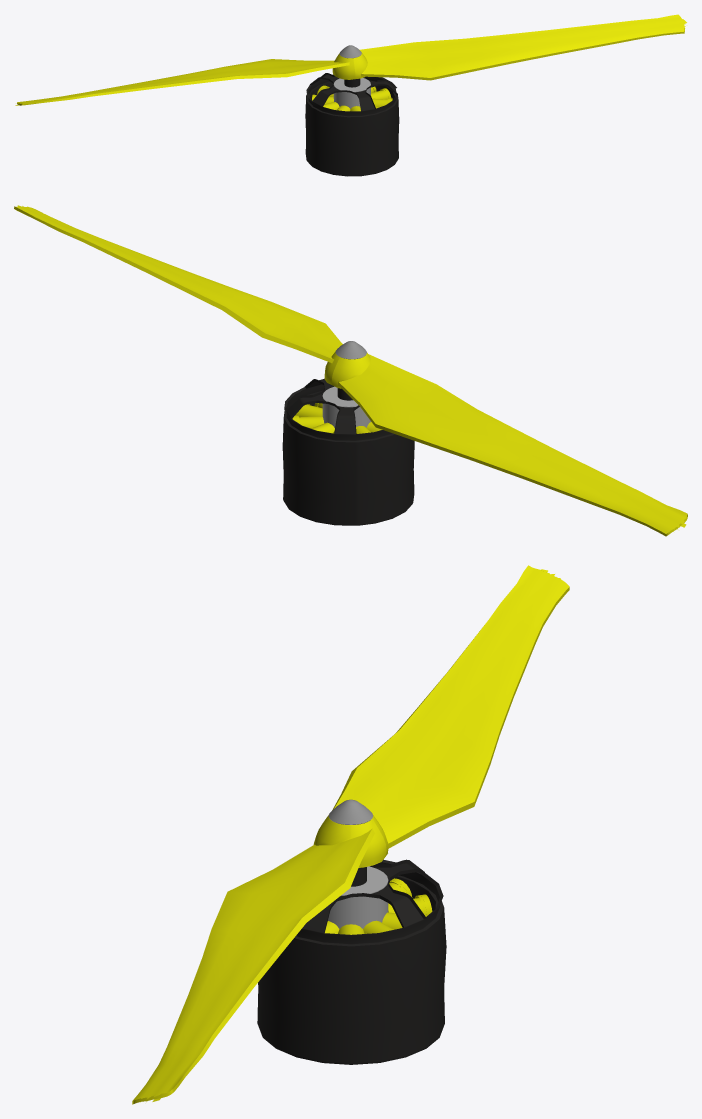
Rendered from motor_type_10.fbx.
3 views of the same model, one above another, from view 1: azimuth 30°, elevation 25°; view 2: azimuth 150°, elevation 25°; view 3: azimuth 270°, elevation 25° (orthographic). The views are drawn at different scales.
Visible parts, largest first — view 1: polySurface31, pCylinder30, pCylinder31; view 2: polySurface31, pCylinder30, pCylinder31; view 3: polySurface31, pCylinder30, pCylinder31, polySurface32.
Boxes of the visible parts, box(x1,y1,x2,y2) form: polySurface31: box(15, 14, 686, 105); pCylinder30: box(305, 73, 399, 176); pCylinder31: box(333, 78, 370, 108); polySurface31: box(14, 205, 687, 536); pCylinder30: box(282, 378, 414, 525); pCylinder31: box(322, 386, 370, 427); polySurface31: box(132, 565, 569, 1104); pCylinder30: box(257, 859, 446, 1064); pCylinder31: box(328, 866, 388, 928); polySurface32: box(328, 799, 373, 824).
Size of the model in its own units: 17.81 by 3.32 by 5.89.
